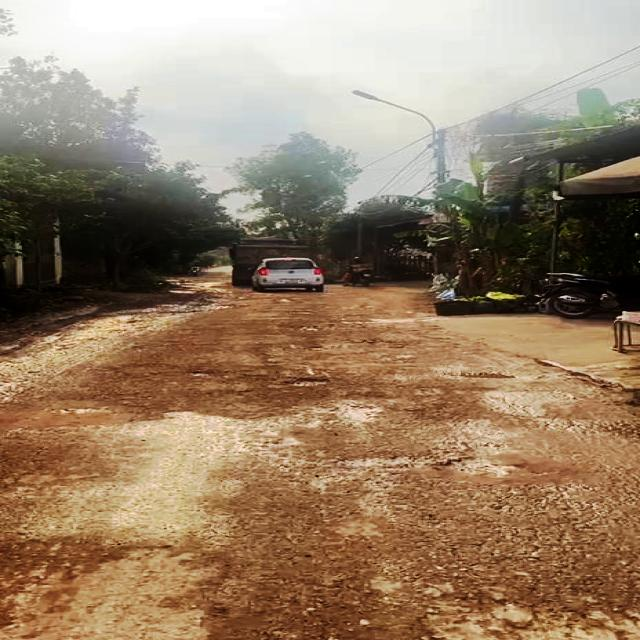pothole: (428, 450, 522, 478), (452, 368, 518, 381), (283, 374, 332, 390)
